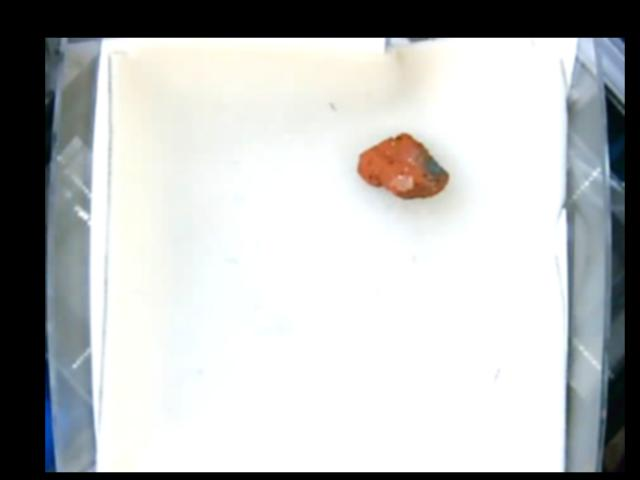Brisk: (354, 129, 449, 197)
